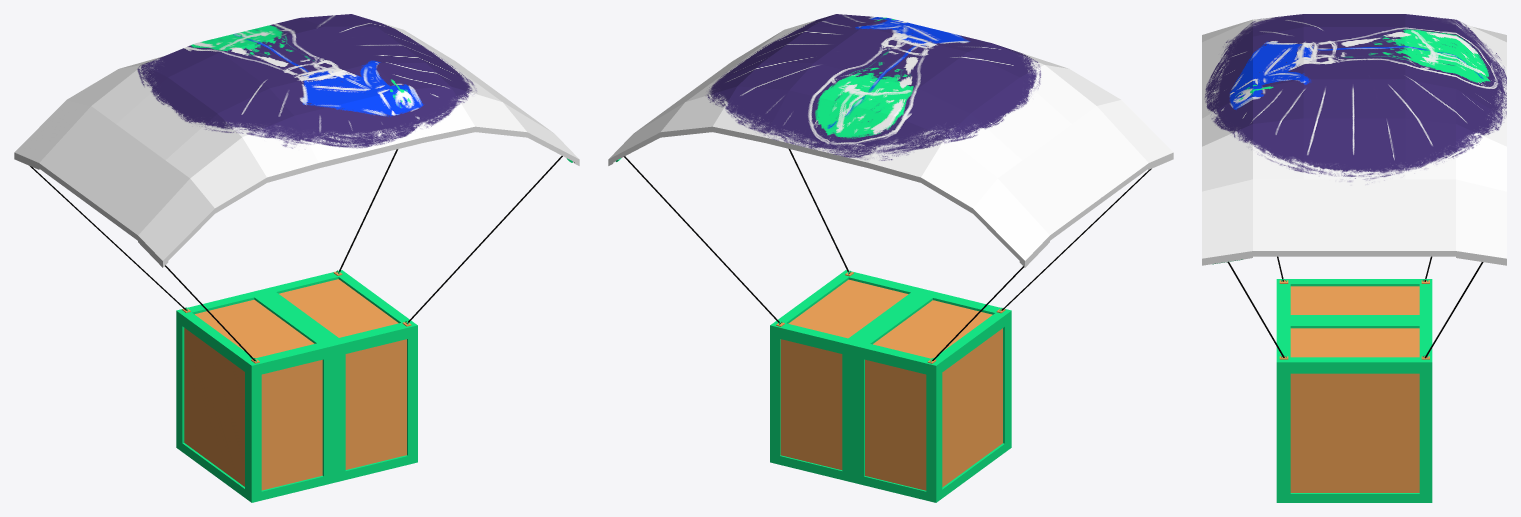
Rendered from itemcrate.fbx.
3 renders of one model, left to right at view 1: azimuth 30°, elevation 25°; view 2: azimuth 150°, elevation 25°; view 3: azimuth 270°, elevation 25°, orthographic. The views are drawn at different scales.
Parts seen in each view (by area): view 1: glider, lootcrate, rope; view 2: glider, lootcrate, rope; view 3: glider, lootcrate, rope.
Boxes of the visible parts, x1,y1,x2,y2 form: glider: (14,14,579,267); lootcrate: (176,270,417,502); rope: (30,149,562,361); glider: (608,14,1173,267); lootcrate: (770,270,1011,502); rope: (624,149,1151,360); glider: (1202,14,1506,265); lootcrate: (1276,279,1432,502); rope: (1227,256,1483,358).
Bounding box in the file's own units: 1134 × 1034 × 700.
